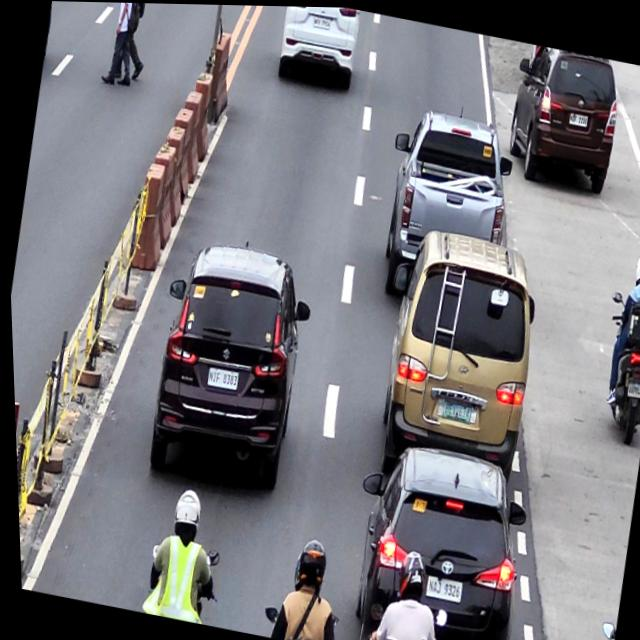Car: (135, 234, 302, 494), (370, 228, 539, 461), (348, 439, 534, 640), (370, 105, 509, 290), (500, 40, 627, 192), (271, 5, 366, 93)
License-Plate: (419, 569, 461, 602), (200, 362, 236, 393), (436, 395, 471, 424), (565, 106, 591, 128), (622, 378, 640, 398)
Motorcycle: (135, 474, 222, 624), (584, 243, 640, 442), (260, 535, 340, 640), (366, 545, 433, 640)
